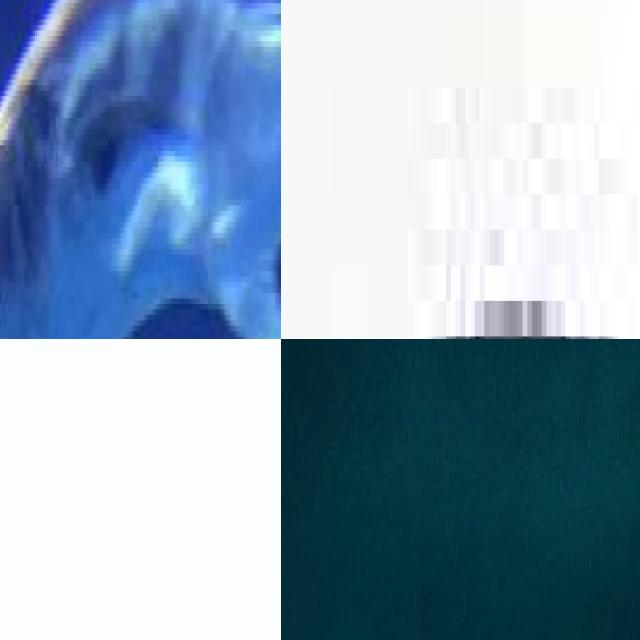fish: (281, 0, 640, 339), (281, 339, 640, 640), (0, 0, 281, 339)
